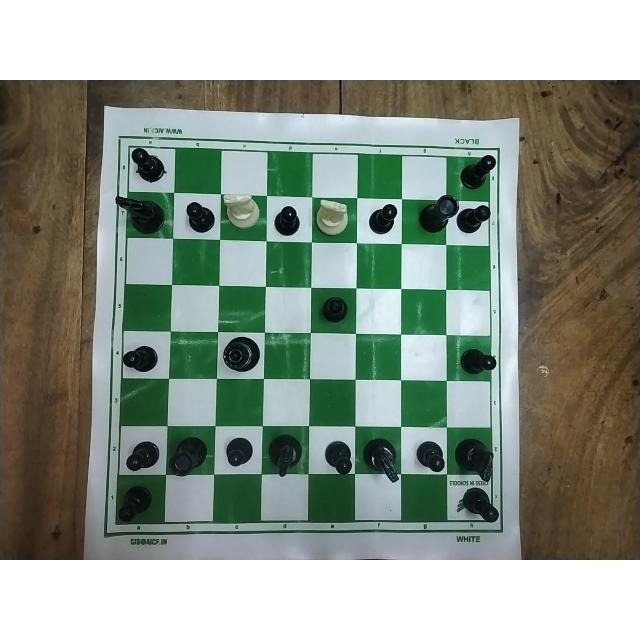black-knight: (115, 192, 171, 238), (448, 435, 498, 483), (361, 437, 405, 487), (262, 431, 306, 479)
black-pawn: (116, 482, 158, 524), (463, 487, 503, 527), (129, 143, 166, 185), (459, 153, 496, 192), (124, 437, 164, 473), (221, 432, 259, 468), (457, 347, 496, 382), (322, 436, 356, 476), (368, 202, 402, 240), (316, 294, 351, 330), (121, 343, 159, 376), (184, 196, 216, 235), (459, 202, 493, 236), (415, 439, 446, 476), (274, 205, 303, 239)
black-queen: (221, 333, 263, 375)
black-rook: (170, 435, 210, 477), (420, 194, 460, 234)
white-knight: (314, 197, 354, 239), (222, 188, 261, 231)
